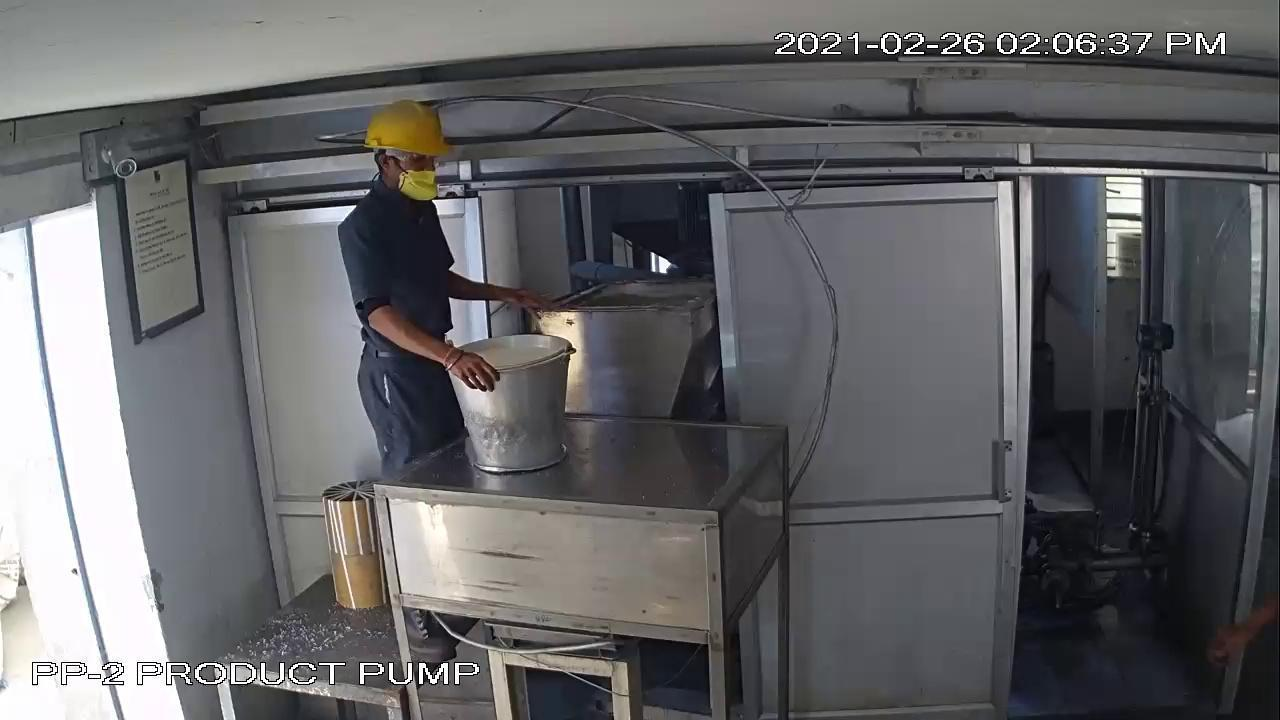helmet: (342, 92, 473, 170)
